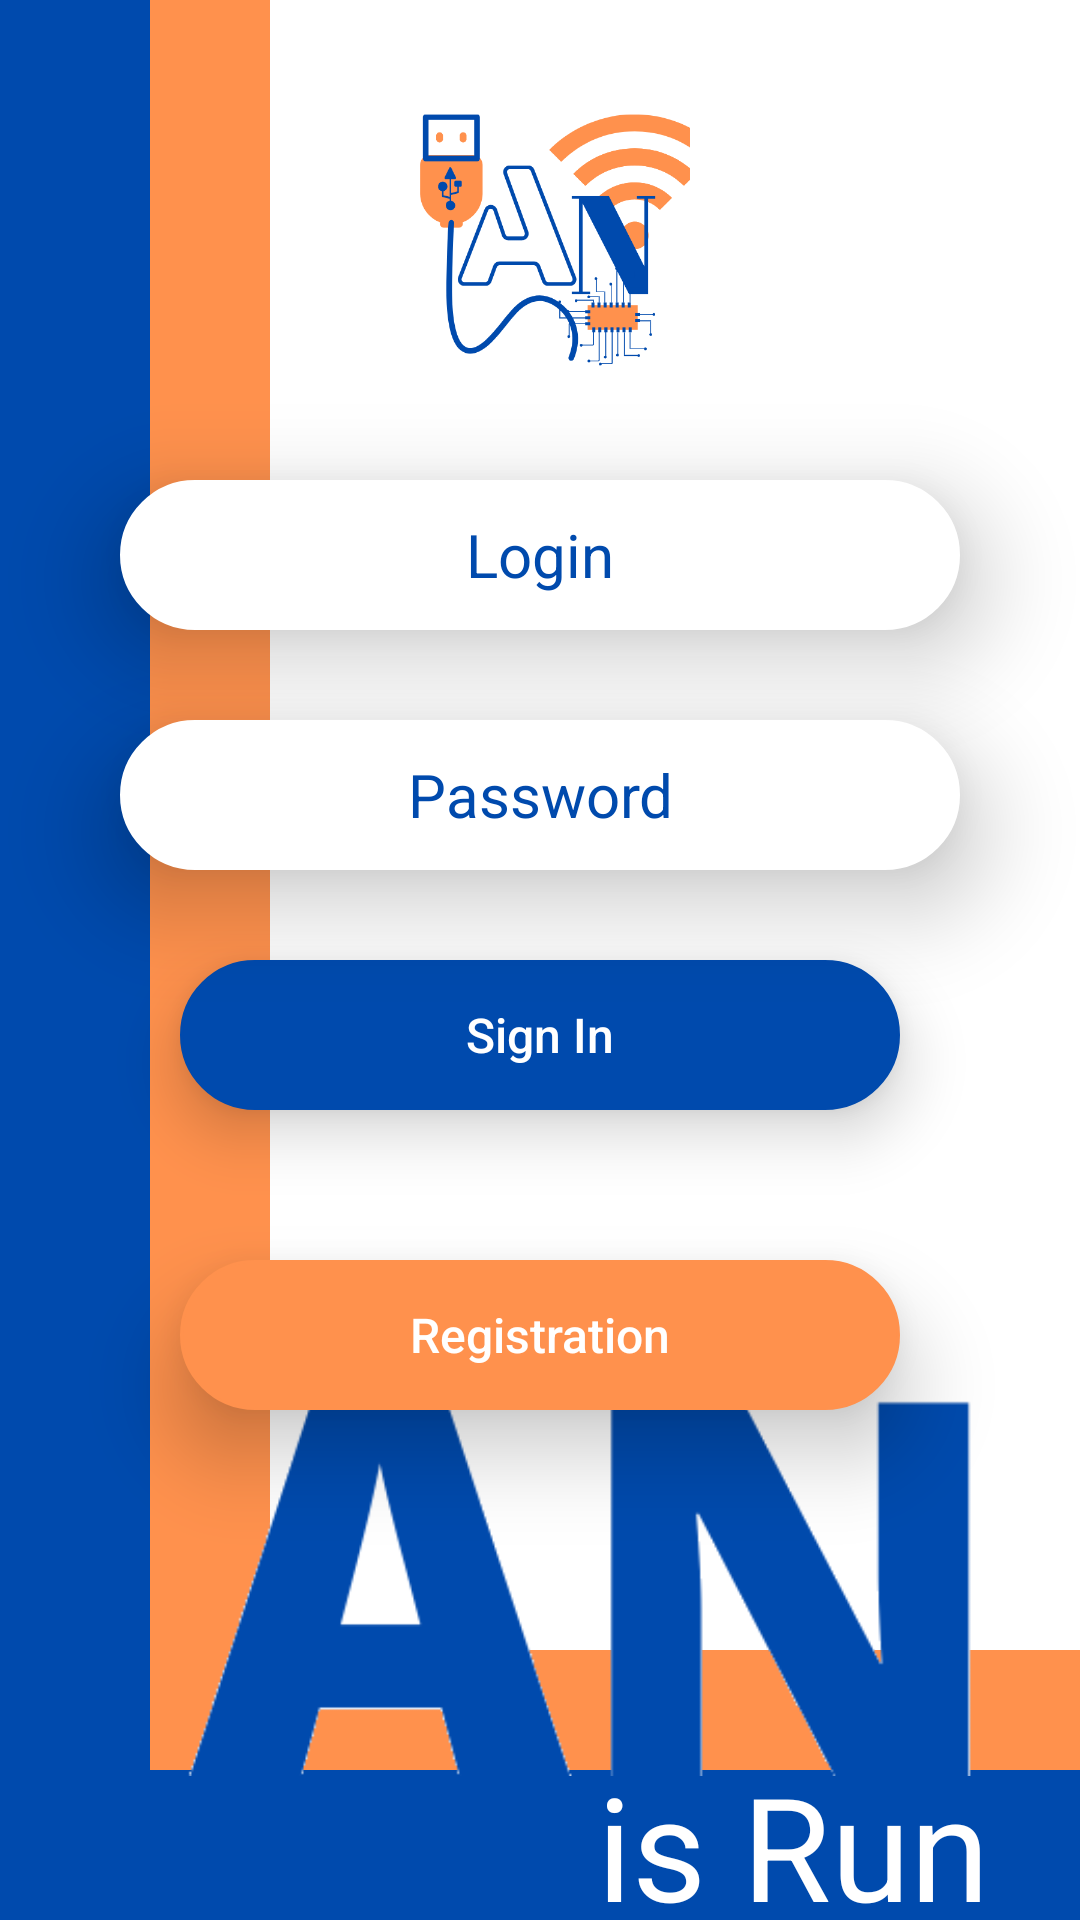

Named icons in this screenshot (1080x1920) and their centers, point (x, y):
amblem: point (555, 240)
